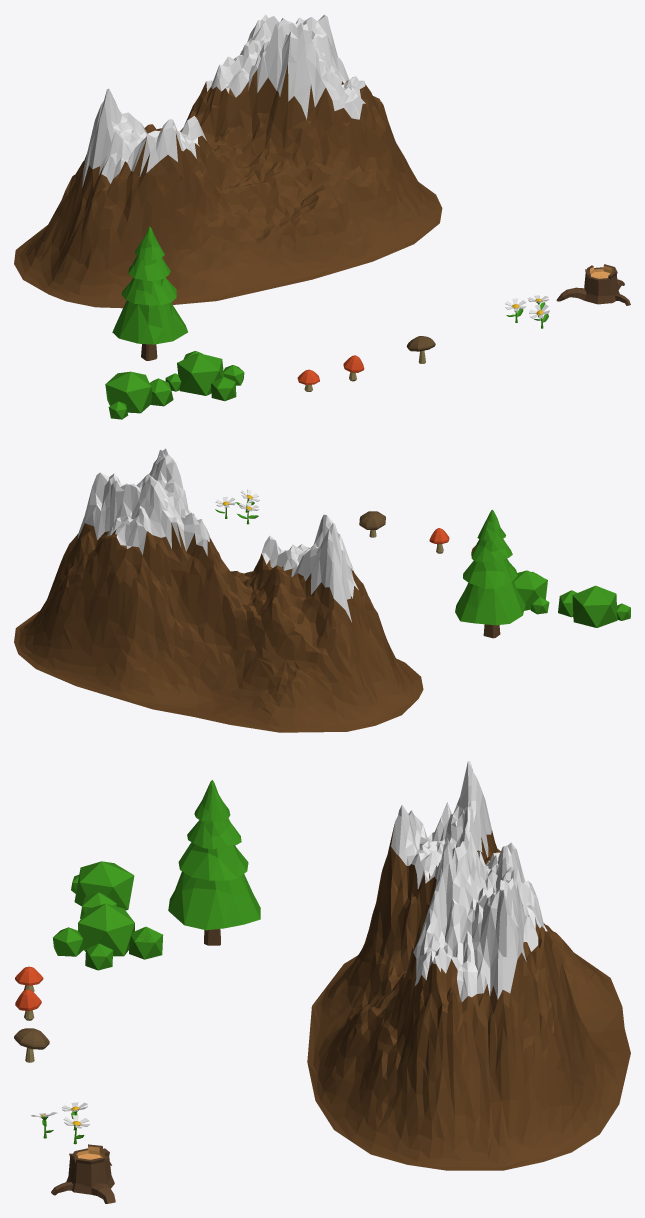
The model's file is Mountain.fbx.
The picture shows the model from 3 angles, top to bottom: view 1: azimuth 30°, elevation 25°; view 2: azimuth 150°, elevation 25°; view 3: azimuth 270°, elevation 25°; orthographic projection. The views are drawn at different scales.
Parts seen in each view (by area): view 1: Mountains, Cristmas Tree, Icosphere.004, Icosphere.005, Log stem; view 2: Mountains, Cristmas Tree, Icosphere.005, Icosphere.004, Circle.003; view 3: Mountains, Cristmas Tree, Icosphere.004, Icosphere.005, Log stem, Circle.003.
Boxes of the visible parts, bbox=[...] form: Mountains: bbox=[14, 14, 442, 308]; Cristmas Tree: bbox=[112, 226, 187, 360]; Icosphere.004: bbox=[165, 351, 244, 401]; Icosphere.005: bbox=[105, 371, 173, 419]; Log stem: bbox=[556, 264, 630, 305]; Mountains: bbox=[14, 448, 423, 732]; Cristmas Tree: bbox=[455, 509, 525, 638]; Icosphere.005: bbox=[558, 585, 630, 627]; Icosphere.004: bbox=[513, 570, 549, 614]; Circle.003: bbox=[359, 511, 385, 537]; Mountains: bbox=[307, 761, 630, 1170]; Cristmas Tree: bbox=[168, 780, 260, 945]; Icosphere.004: bbox=[53, 903, 163, 970]; Icosphere.005: bbox=[71, 861, 134, 918]; Log stem: bbox=[51, 1144, 115, 1203]; Circle.003: bbox=[14, 1028, 49, 1062].
Size of the model in its own units: 529 by 201 by 436.
